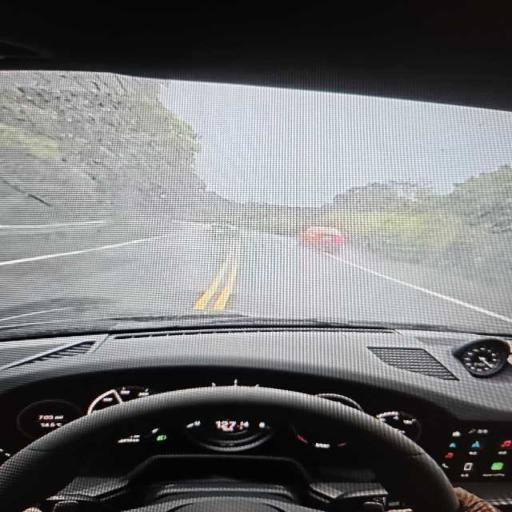car: (0, 70, 511, 511), (300, 226, 345, 251)
lane: (0, 223, 511, 331), (231, 233, 510, 331), (0, 224, 232, 318), (329, 255, 511, 323)
